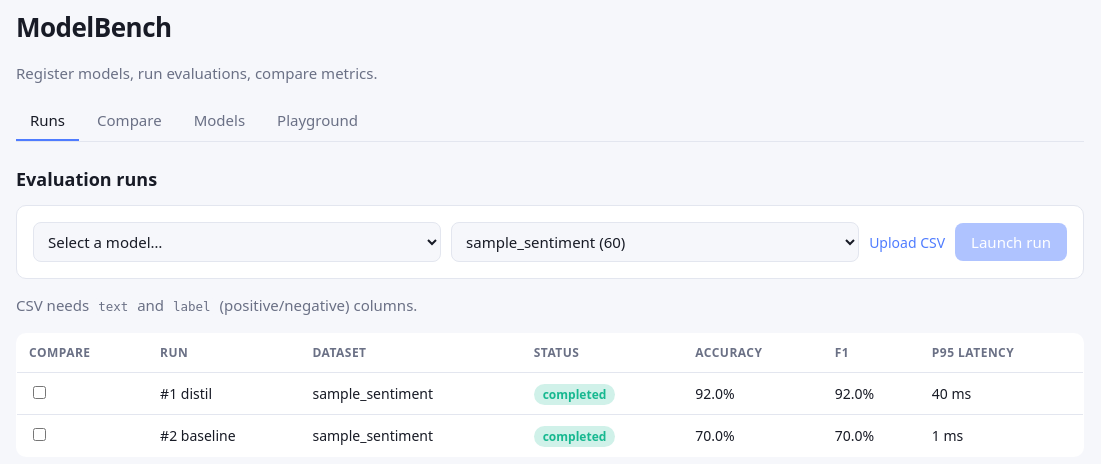
Scenario: compare tab shows a hint when nothing is selected
Expected: the text "#1 distil" is shown, [148, 372, 300, 414]
Click the tab "Compare".
click(129, 121)  # box [83, 100, 176, 141]
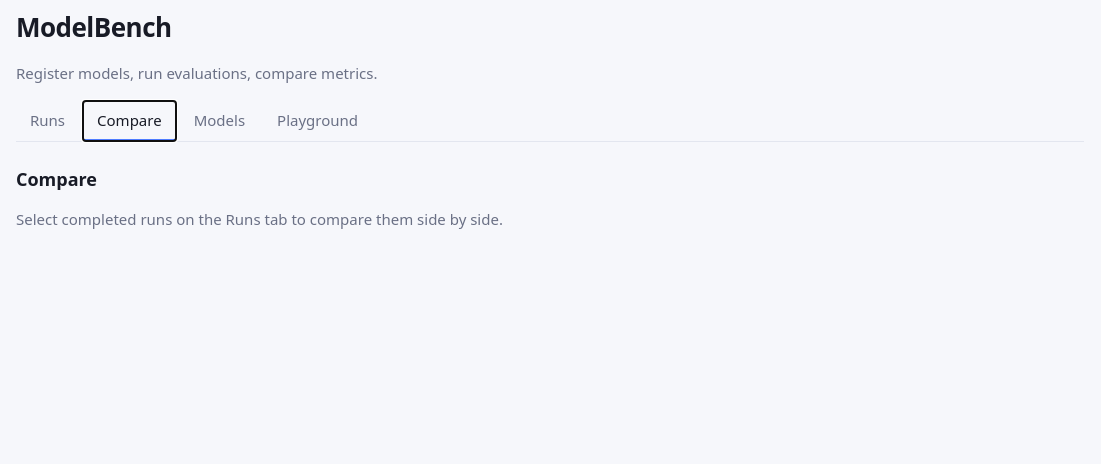
Expected: the text "Select completed runs" is shown, [16, 209, 503, 229]
